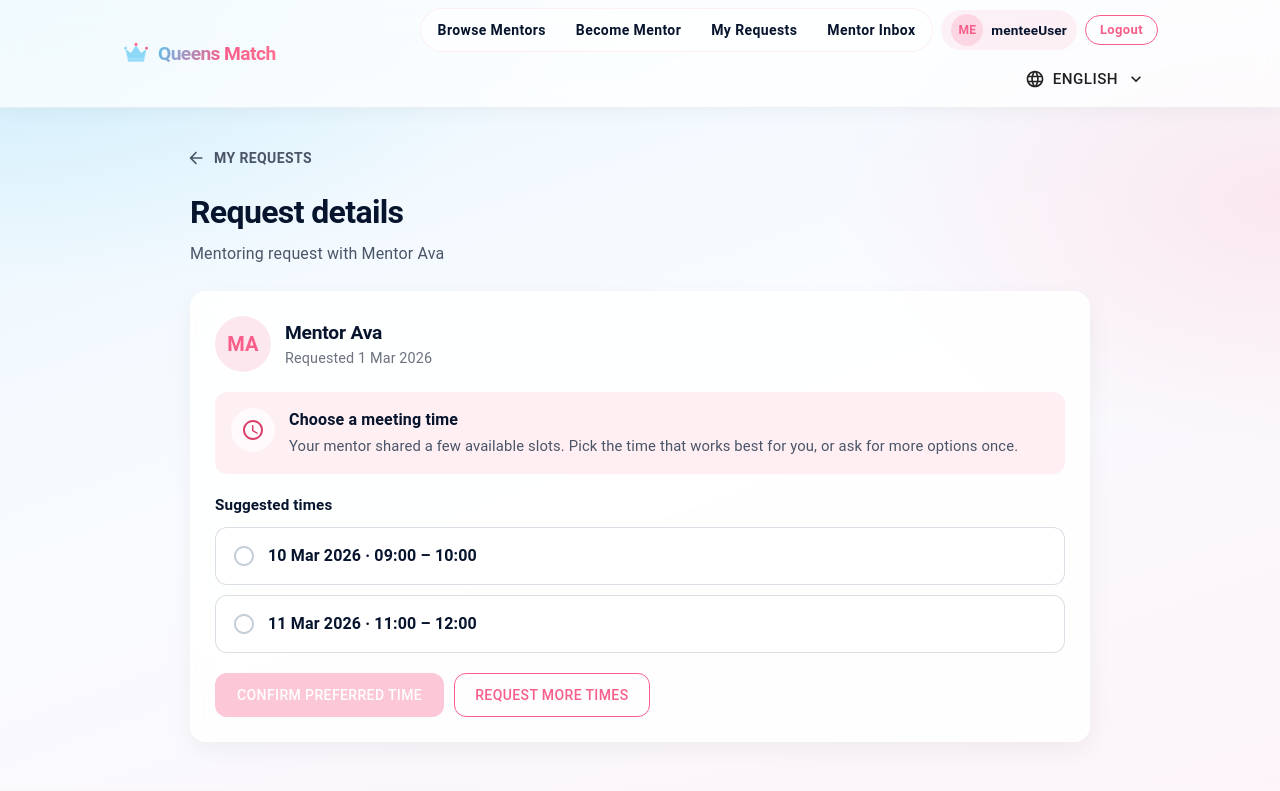
Scenario: RequestDetailsPage › shows select error when selectTimeSlot fails
The width and height of the screenshot is (1280, 791).
Click the button "10 Mar 2026 · 09:00 – 10:00": point(372, 555) [215,526,1065,584]
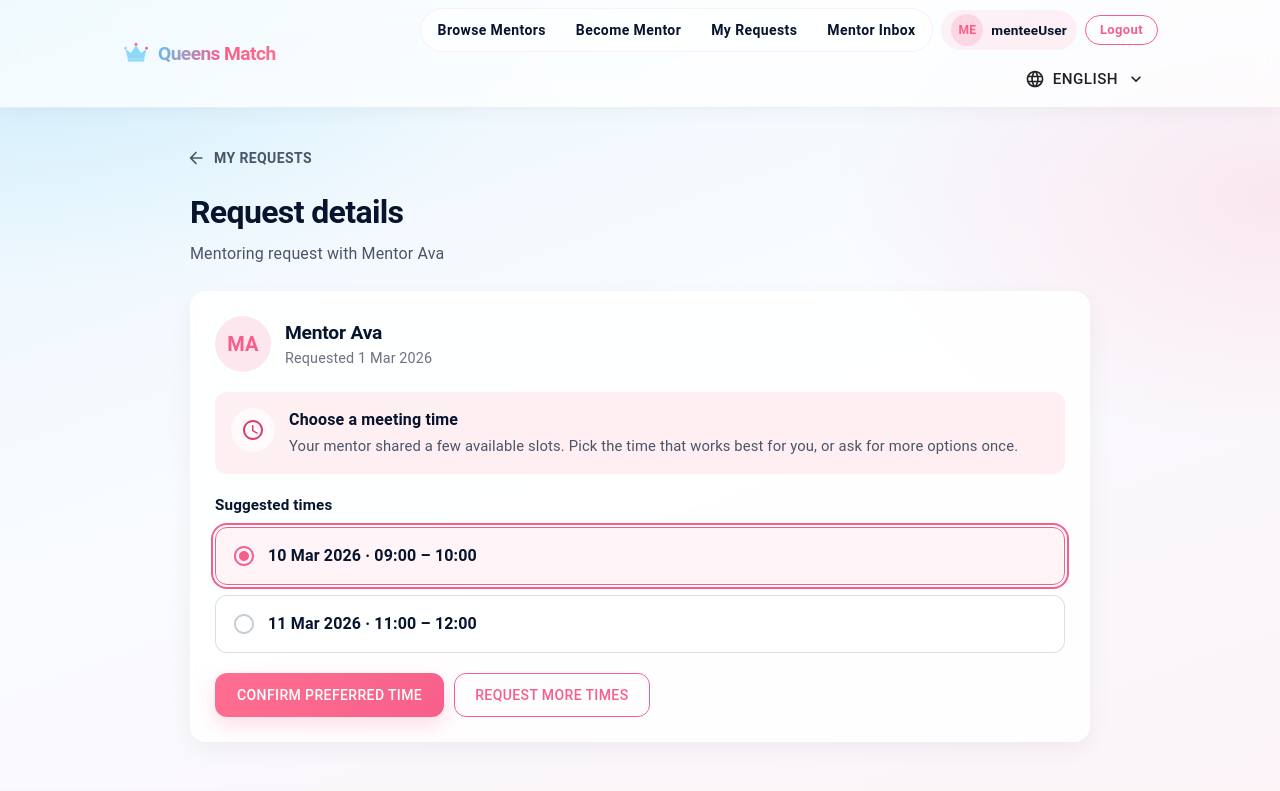
Click the button "Confirm preferred time": point(330, 695) [215,673,444,717]
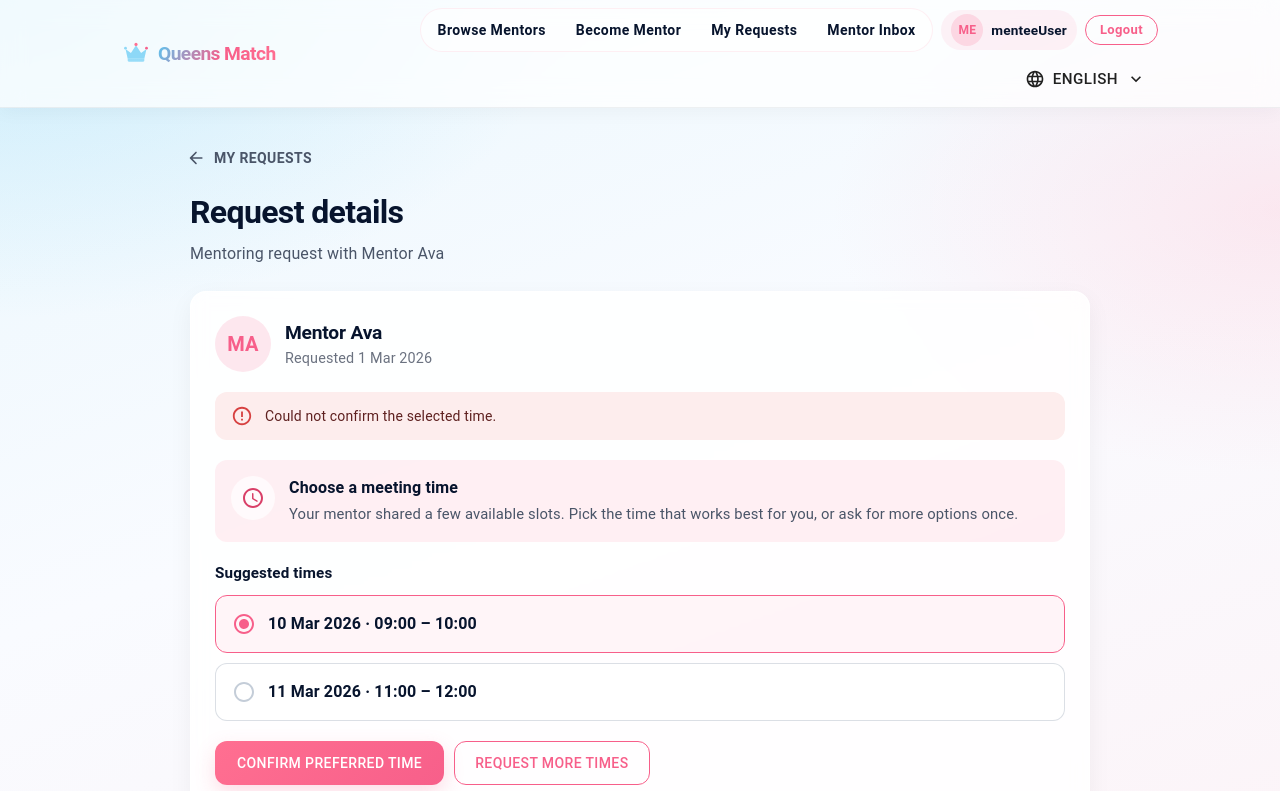
Now the text "Could not confirm the selected time." is shown, box [265,408,496,424]
